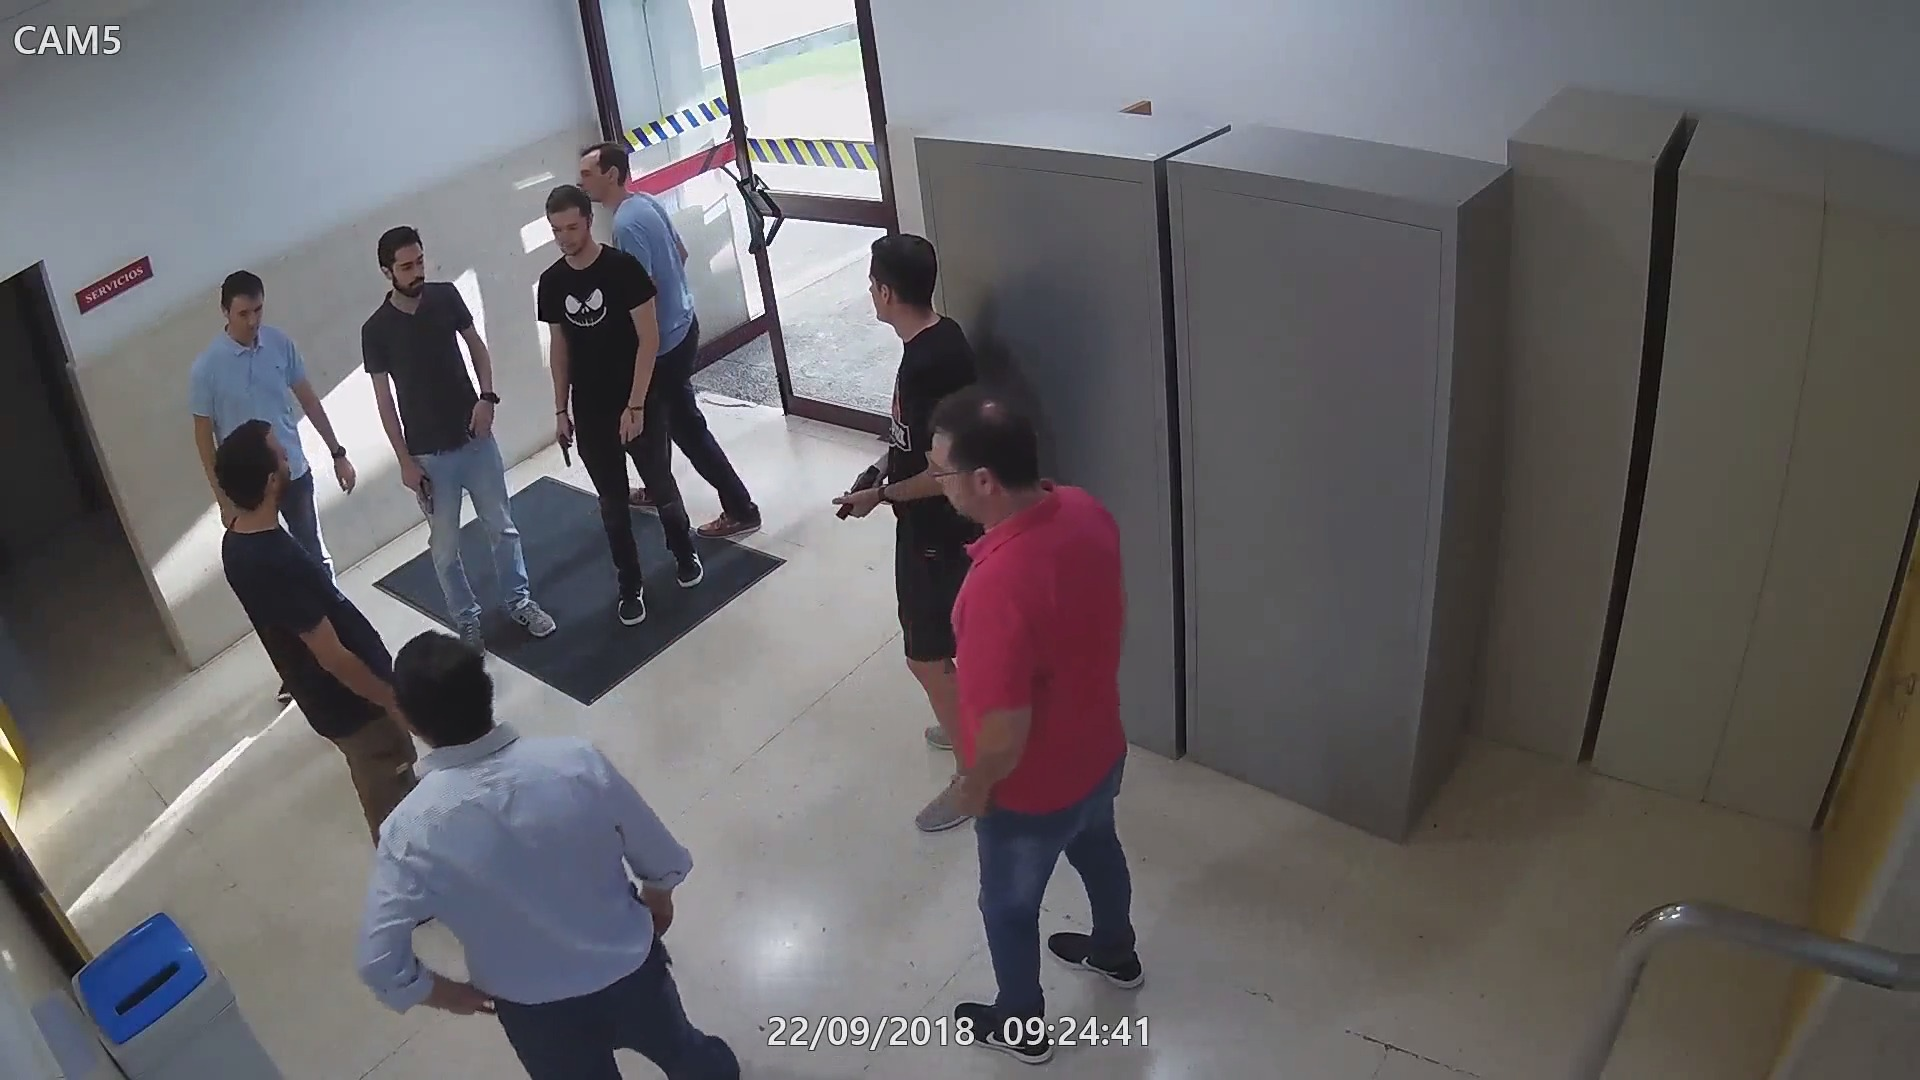Handgun: (829, 454, 893, 524), (400, 462, 435, 516), (551, 413, 578, 469)
